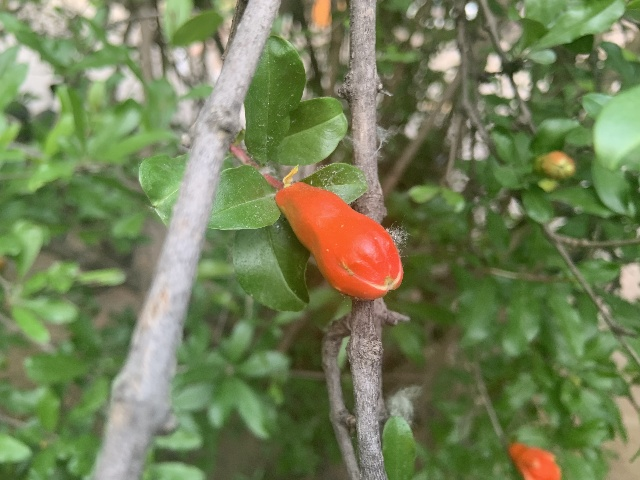bud: (276, 181, 403, 301), (540, 151, 575, 181)
flower: (508, 442, 562, 480)
